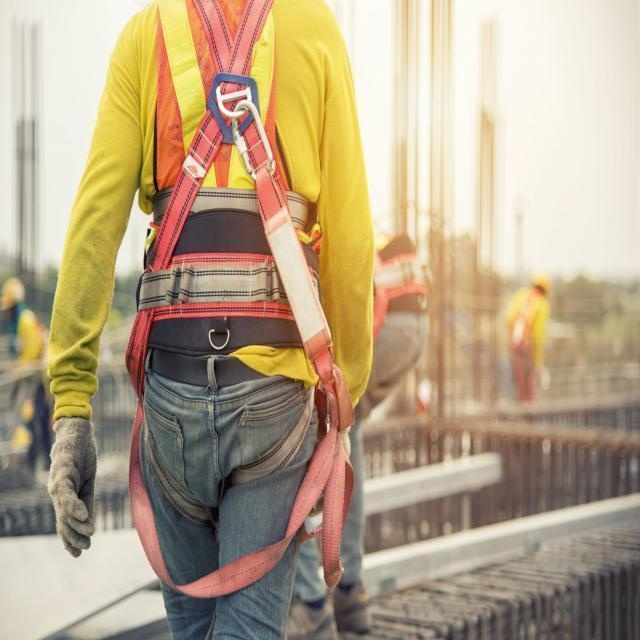Arnes_seguridad: (126, 1, 347, 529)
